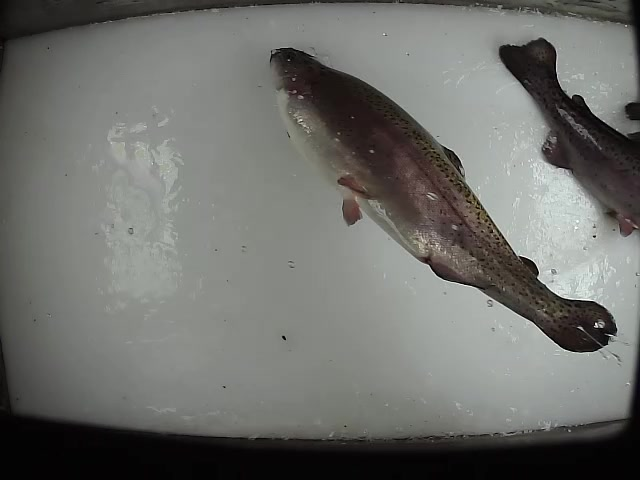fish: (266, 43, 622, 358), (497, 36, 640, 241)
